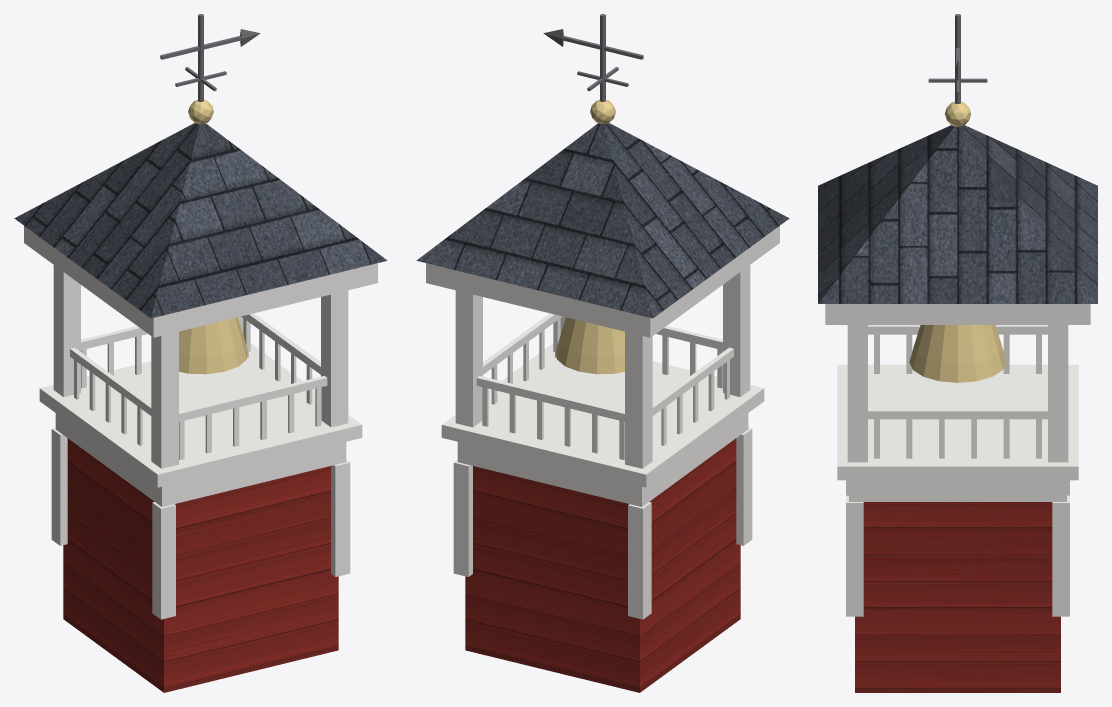
Rendered from cupola.glb.
3 views of the same model, side by side, from view 1: azimuth 30°, elevation 25°; view 2: azimuth 150°, elevation 25°; view 3: azimuth 270°, elevation 25° (orthographic). The views are drawn at different scales.
Visible parts, largest first — view 1: cupola_trim, cupola_siding, cupola_shingle, cupola_brass, cupola_pole; view 2: cupola_trim, cupola_siding, cupola_shingle, cupola_brass, cupola_pole; view 3: cupola_trim, cupola_shingle, cupola_siding, cupola_brass, cupola_pole.
Part boxes in pixels (<box>): cupola_trim: <box>24,226,377,619</box>; cupola_siding: <box>63,438,338,692</box>; cupola_shingle: <box>14,123,387,318</box>; cupola_brass: <box>179,99,247,374</box>; cupola_pole: <box>160,14,260,101</box>; cupola_trim: <box>426,226,779,619</box>; cupola_siding: <box>465,438,740,692</box>; cupola_shingle: <box>416,123,789,318</box>; cupola_brass: <box>556,99,624,374</box>; cupola_pole: <box>543,14,643,101</box>; cupola_trim: <box>825,304,1090,616</box>; cupola_shingle: <box>818,125,1097,303</box>; cupola_siding: <box>855,502,1060,692</box>; cupola_brass: <box>909,101,1006,382</box>; cupola_pole: <box>928,14,987,103</box>.
Size of the model in its own units: 1.9 by 4.75 by 1.9.
Materials: 6 (2 with a texture image).
